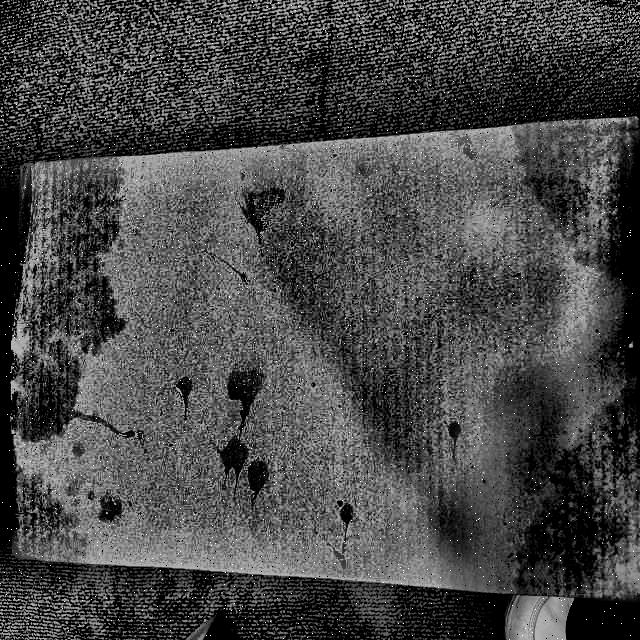box: (7, 107, 640, 608)
wet: (12, 158, 147, 556), (503, 380, 640, 600), (509, 115, 637, 291)
